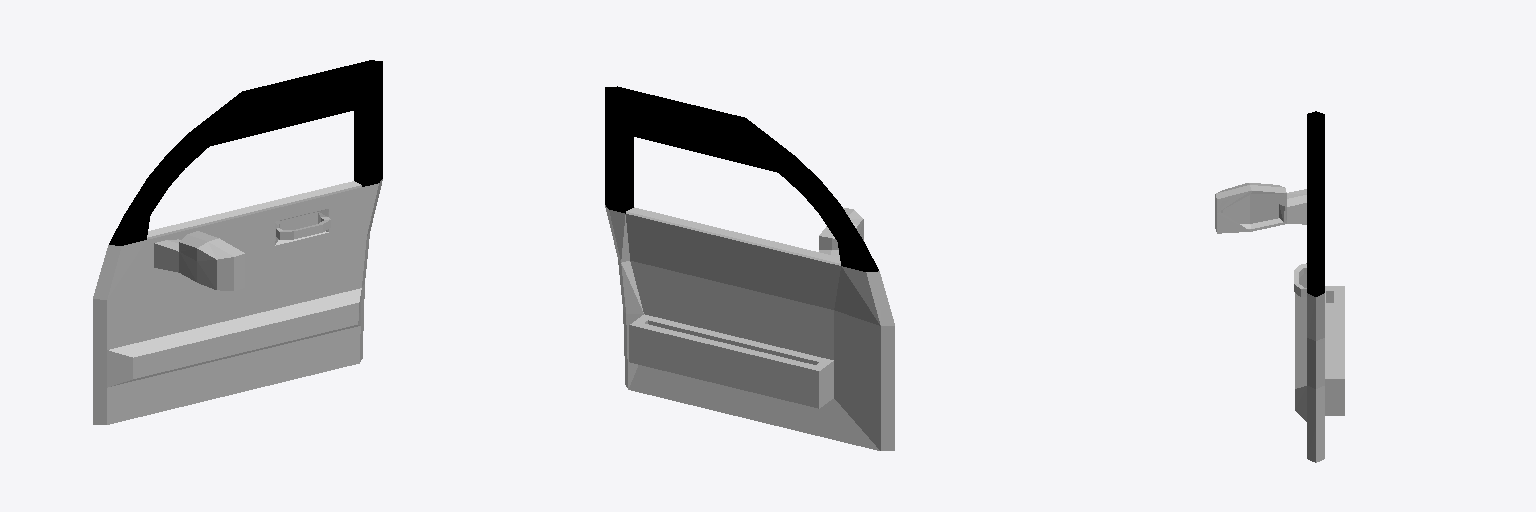
Rendered from CarDoor.obj.
3 views of the same model, side by side, from view 1: azimuth 30°, elevation 25°; view 2: azimuth 150°, elevation 25°; view 3: azimuth 270°, elevation 25° (orthographic).
Parts seen in each view (by area): view 1: CarDoor; view 2: CarDoor; view 3: CarDoor.
Part boxes in pixels (x1,y1,x2,y2): CarDoor: (93,60,382,424); CarDoor: (605,86,894,450); CarDoor: (1215,111,1344,462).
Size of the model in its own units: 2.03 by 1.95 by 0.7822.